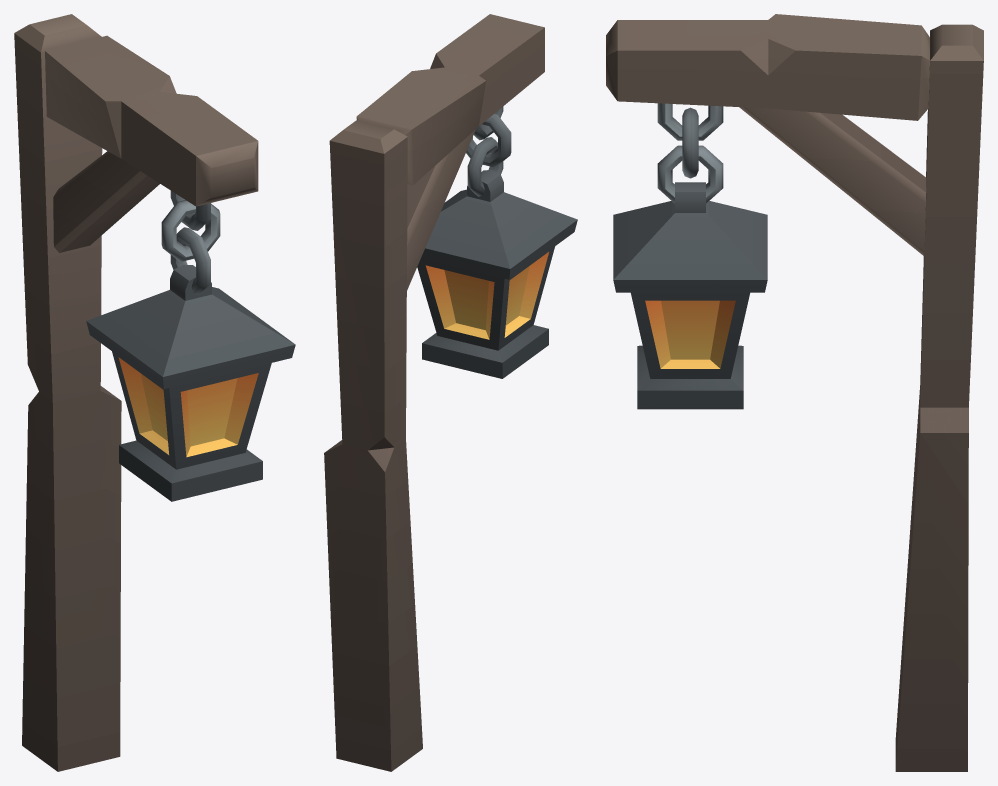
Rendered from hb_post_lantern.glb.
3 renders of one model, left to right at view 1: azimuth 30°, elevation 25°; view 2: azimuth 150°, elevation 25°; view 3: azimuth 270°, elevation 25°, orthographic. The views are drawn at different scales.
Parts seen in each view (by area): view 1: post_lantern, post_lantern_lantern; view 2: post_lantern, post_lantern_lantern; view 3: post_lantern, post_lantern_lantern.
Boxes of the visible parts, x1,y1,x2,y2 form: post_lantern: (14,14,258,771); post_lantern_lantern: (86,191,295,501); post_lantern: (324,14,544,771); post_lantern_lantern: (417,106,577,378); post_lantern: (606,14,983,771); post_lantern_lantern: (613,103,767,409).
Bounding box in the file's own units: 0.4655 × 2.4 × 1.14.
1 material, 1 textured.
